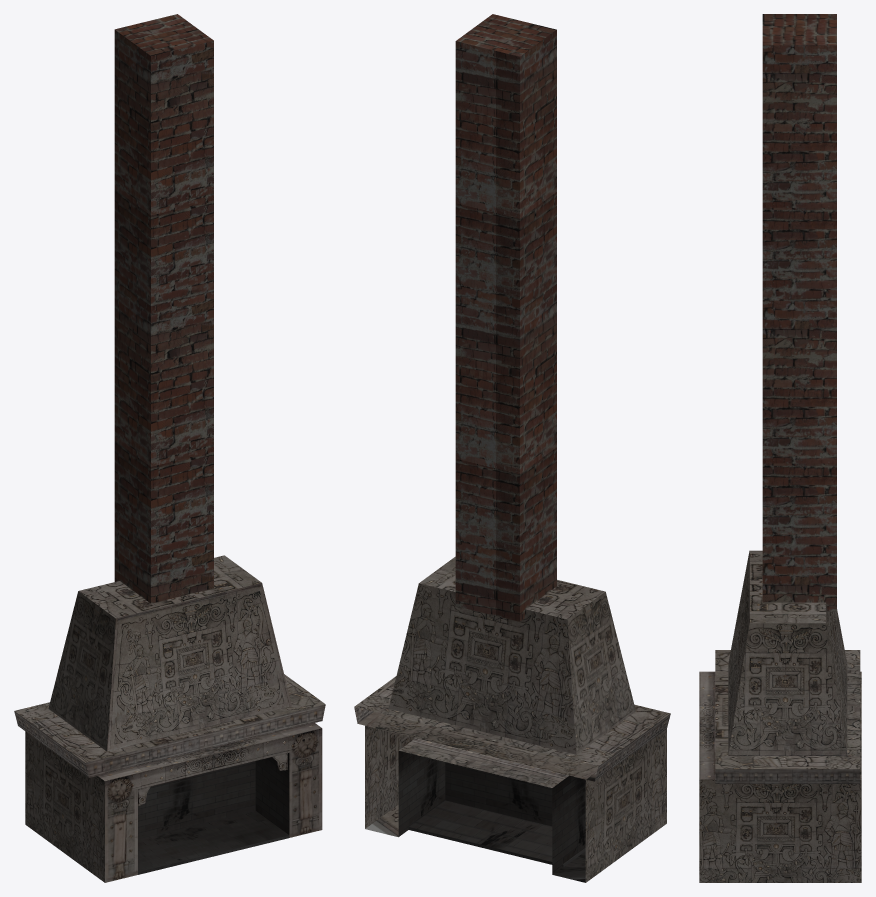
Rendered from fireplace_1.fbx.
3 renders of one model, left to right at view 1: azimuth 30°, elevation 25°; view 2: azimuth 150°, elevation 25°; view 3: azimuth 270°, elevation 25°, orthographic.
Visible parts, largest first — view 1: Cube.004; view 2: Cube.004; view 3: Cube.004.
Part boxes in pixels (<box>): Cube.004: <box>14,14,325,882</box>; Cube.004: <box>354,14,670,882</box>; Cube.004: <box>699,14,861,882</box>.
Size of the model in its own units: 95.43 by 298 by 54.84.
